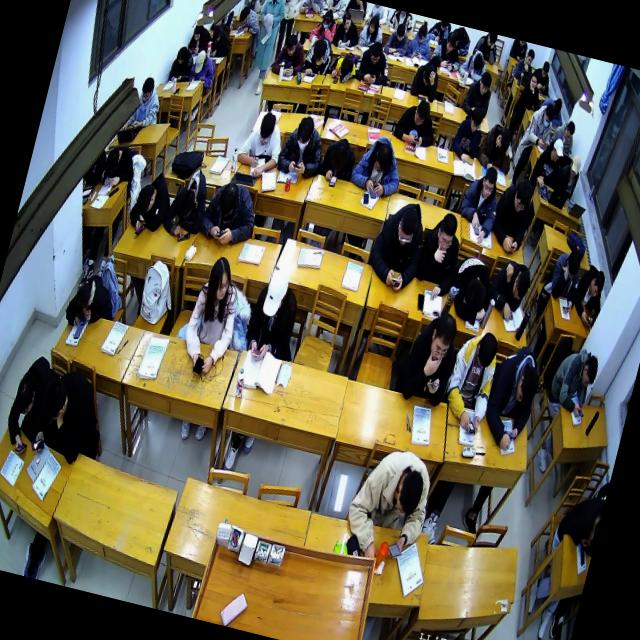bow: (196, 175, 262, 247), (161, 162, 215, 240), (62, 268, 122, 332), (446, 252, 498, 322), (126, 165, 178, 233), (552, 488, 606, 552), (484, 255, 534, 322), (474, 118, 518, 173), (326, 48, 360, 82), (456, 48, 488, 82), (207, 24, 236, 60), (237, 3, 266, 34), (298, 0, 324, 14)
down: (392, 468, 426, 520), (426, 312, 458, 364), (40, 373, 72, 422), (260, 270, 290, 319), (392, 205, 420, 248), (512, 364, 542, 404), (472, 328, 500, 369), (11, 377, 38, 418), (432, 212, 458, 251), (292, 111, 316, 150), (216, 181, 240, 219), (72, 280, 95, 316), (134, 182, 158, 215), (256, 110, 276, 148), (510, 266, 532, 300), (510, 176, 532, 210), (579, 354, 600, 389), (490, 124, 512, 156), (372, 142, 394, 174), (176, 185, 198, 216), (563, 248, 583, 280), (328, 138, 349, 168), (466, 102, 486, 132), (412, 95, 431, 125), (588, 270, 606, 300), (102, 148, 120, 174), (548, 138, 566, 164), (310, 38, 326, 64), (476, 70, 492, 96), (138, 76, 154, 102), (540, 102, 556, 128), (567, 152, 583, 178), (192, 49, 207, 74), (282, 33, 298, 56), (421, 62, 436, 84), (442, 31, 457, 52), (368, 41, 382, 62), (563, 120, 576, 142), (237, 4, 251, 24), (414, 24, 427, 44), (394, 20, 407, 40), (366, 14, 379, 34), (320, 10, 333, 30), (174, 46, 187, 66), (210, 25, 222, 44), (341, 8, 353, 26), (192, 21, 204, 38), (525, 46, 536, 64), (472, 52, 484, 68), (540, 58, 550, 76), (486, 33, 496, 46)
lookup: (478, 166, 498, 200), (527, 71, 539, 90)
sit: (338, 440, 440, 570), (177, 248, 250, 380), (30, 366, 114, 468), (478, 340, 546, 452), (240, 264, 312, 366), (392, 306, 463, 409), (438, 324, 504, 434), (362, 195, 432, 294), (0, 350, 61, 456), (411, 208, 469, 302), (240, 0, 290, 96), (453, 160, 507, 242), (544, 341, 602, 416), (346, 130, 408, 200), (509, 97, 558, 185), (232, 108, 288, 182), (487, 175, 537, 256), (274, 112, 330, 181), (538, 242, 588, 312), (448, 100, 489, 165), (569, 260, 610, 325), (392, 94, 442, 146), (124, 71, 166, 128), (318, 132, 360, 183), (352, 39, 396, 87), (98, 142, 140, 191), (268, 0, 302, 60), (530, 131, 566, 187), (270, 29, 310, 77), (510, 66, 542, 125), (461, 66, 496, 116), (300, 34, 336, 80), (429, 29, 466, 72), (408, 56, 443, 100), (554, 150, 584, 198), (404, 22, 436, 62), (332, 8, 364, 48), (188, 46, 220, 86), (168, 42, 197, 82), (308, 8, 339, 45), (382, 19, 412, 56), (548, 118, 578, 154), (357, 13, 387, 48), (471, 30, 501, 63), (514, 44, 538, 79), (186, 22, 212, 54), (530, 58, 556, 90), (244, 0, 269, 10)
